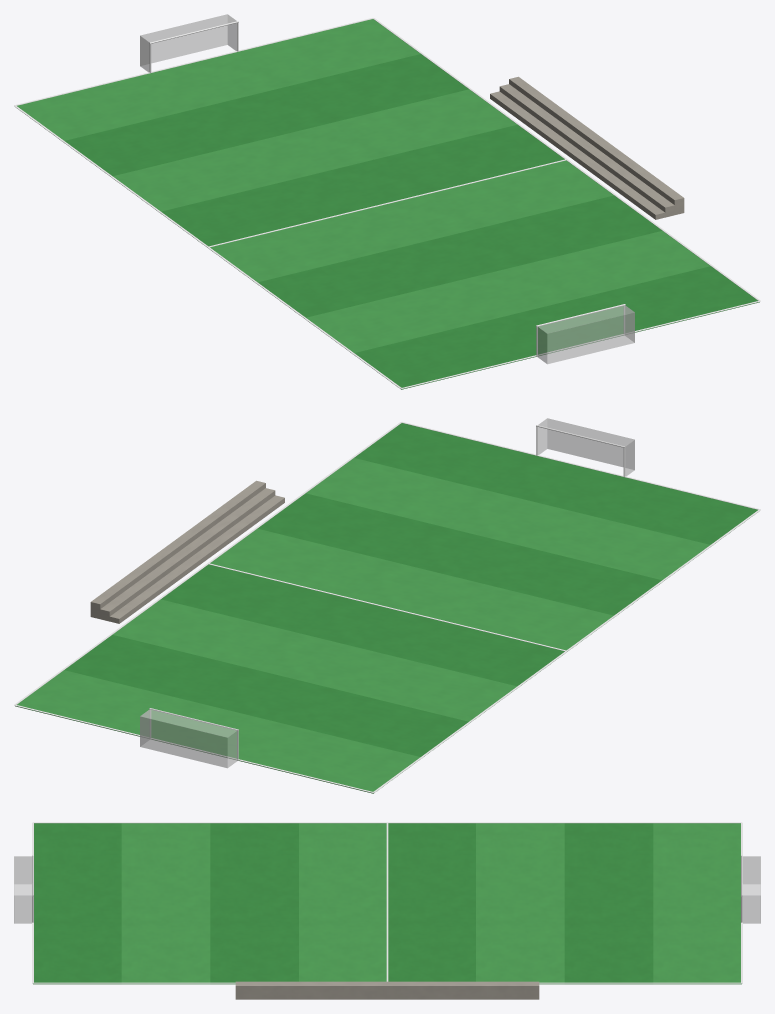
Rendered from ov-field.glb.
3 views of the same model, one above another, from view 1: azimuth 30°, elevation 25°; view 2: azimuth 150°, elevation 25°; view 3: azimuth 270°, elevation 25° (orthographic). The views are drawn at different scales.
Parts seen in each view (by area): view 1: field_stripe_3, field_stripe_2, field_stripe_7, field_stripe_6, field_stripe_1, field_stripe_8, field_stripe_4, field_stripe_5, goal_south_net_back, stand_step_3, stand_step_2, goal_north_net_back (+8 smaller); view 2: field_stripe_6, field_stripe_2, field_stripe_7, field_stripe_3, field_stripe_8, field_stripe_1, field_stripe_5, field_stripe_4, goal_north_net_back, stand_step_3, stand_step_2, goal_south_net_back (+8 smaller); view 3: field_stripe_2, field_stripe_7, field_stripe_1, field_stripe_8, field_stripe_3, field_stripe_6, field_stripe_4, field_stripe_5, stand_step_3, field_line_west, field_line_east, goal_south_net_top (+6 smaller).
Boxes of the visible parts, <box> form: field_stripe_3: <box>258,195,662,318</box>; field_stripe_2: <box>306,231,710,352</box>; field_stripe_7: <box>65,54,468,176</box>; field_stripe_6: <box>113,89,516,211</box>; field_stripe_1: <box>354,266,759,389</box>; field_stripe_8: <box>17,19,420,140</box>; field_stripe_4: <box>210,160,613,282</box>; field_stripe_5: <box>161,124,564,247</box>; goal_south_net_back: <box>547,312,634,363</box>; stand_step_3: <box>509,76,684,214</box>; stand_step_2: <box>499,84,674,217</box>; goal_north_net_back: <box>140,15,227,65</box>; field_stripe_6: <box>112,599,516,722</box>; field_stripe_2: <box>306,458,709,580</box>; field_stripe_7: <box>64,635,468,756</box>; field_stripe_3: <box>258,493,661,615</box>; field_stripe_8: <box>15,670,420,793</box>; field_stripe_1: <box>354,423,757,544</box>; field_stripe_5: <box>161,564,564,686</box>; field_stripe_4: <box>210,528,613,651</box>; goal_north_net_back: <box>140,716,227,767</box>; stand_step_3: <box>90,480,265,618</box>; stand_step_2: <box>100,488,275,621</box>; goal_south_net_back: <box>547,419,634,469</box>; field_stripe_2: <box>121,823,210,984</box>; field_stripe_7: <box>564,823,653,984</box>; field_stripe_1: <box>33,823,121,984</box>; field_stripe_8: <box>653,823,741,984</box>; field_stripe_3: <box>210,823,298,984</box>; field_stripe_6: <box>476,823,564,984</box>; field_stripe_4: <box>299,823,386,981</box>; field_stripe_5: <box>388,823,475,981</box>; stand_step_3: <box>235,981,539,999</box>; field_line_west: <box>33,822,741,823</box>; field_line_east: <box>33,982,741,983</box>; goal_south_net_top: <box>14,856,32,895</box>.
Bounding box in the file's own units: 32.98 × 2.5 × 59.02.
6 materials, 5 textured.
